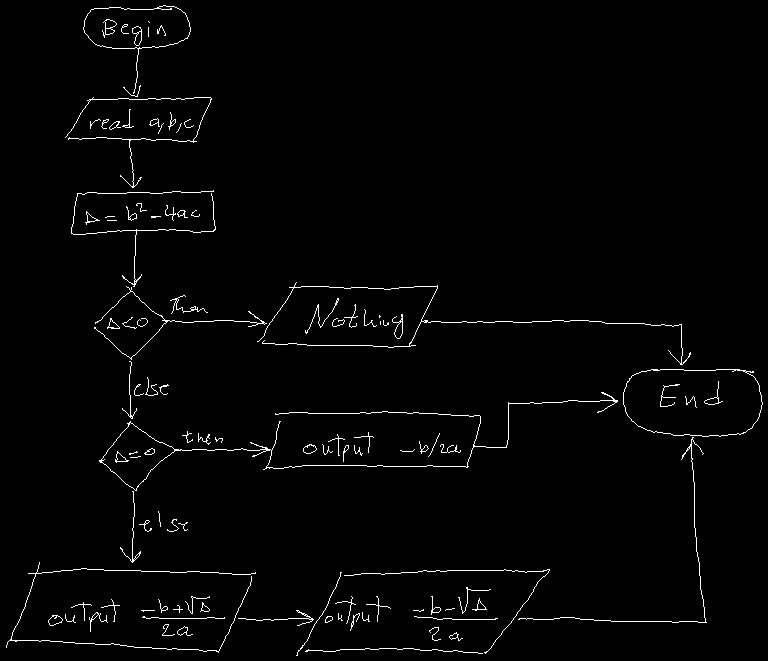arrow: (518, 437, 706, 622), (421, 320, 690, 364), (474, 392, 617, 447), (162, 311, 266, 326), (120, 491, 140, 562), (175, 442, 270, 456), (238, 610, 313, 625), (122, 229, 141, 286), (120, 139, 141, 187), (123, 47, 140, 96), (122, 361, 136, 418)
data: (6, 562, 255, 652), (296, 569, 549, 655), (263, 411, 480, 469), (257, 282, 437, 347), (65, 97, 211, 142)
decision: (99, 421, 177, 490), (94, 286, 167, 359)
process: (71, 190, 215, 234)
terminator: (623, 369, 762, 436), (83, 5, 190, 48)
text: (325, 587, 497, 640), (48, 596, 224, 635), (303, 432, 460, 461), (305, 298, 402, 338), (90, 109, 193, 133), (85, 203, 199, 224), (102, 19, 165, 45), (660, 381, 722, 407), (139, 511, 187, 531), (170, 295, 207, 313), (134, 377, 168, 395), (115, 448, 154, 462), (182, 431, 222, 444), (107, 317, 147, 328)
